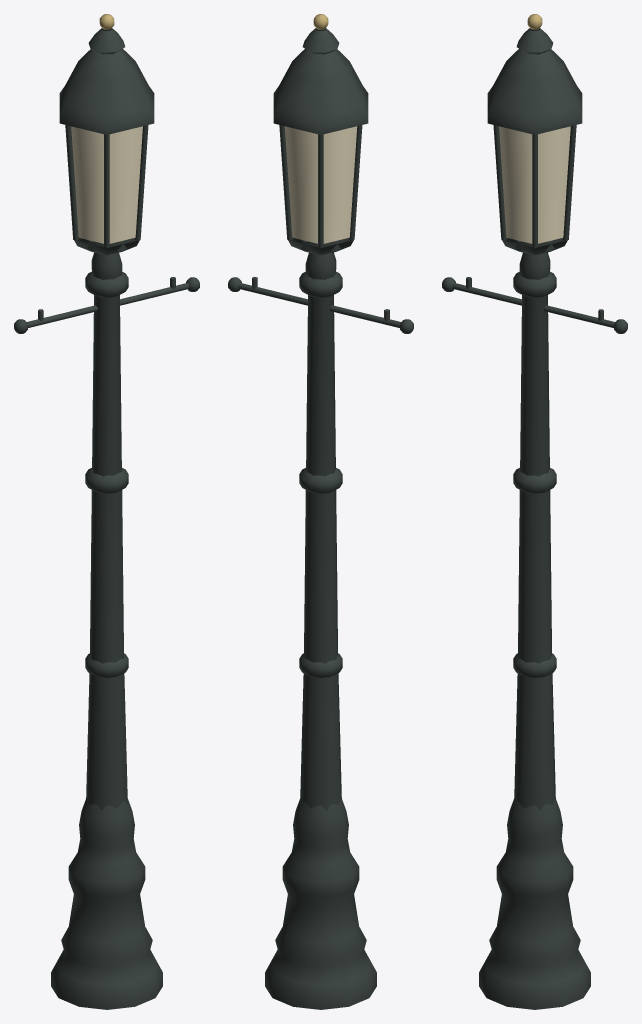
The model's file is streetlamp_old.glb.
3 renders of one model, left to right at view 1: azimuth 30°, elevation 25°; view 2: azimuth 150°, elevation 25°; view 3: azimuth 330°, elevation 25°, orthographic.
Visible parts, largest first — view 1: streetlamp_old; view 2: streetlamp_old; view 3: streetlamp_old.
Part boxes in pixels (<box>): streetlamp_old: <box>14,14,199,1009</box>; streetlamp_old: <box>228,14,413,1009</box>; streetlamp_old: <box>442,14,627,1009</box>.
Size of the model in its own units: 0.8371 by 4.21 by 0.44.
